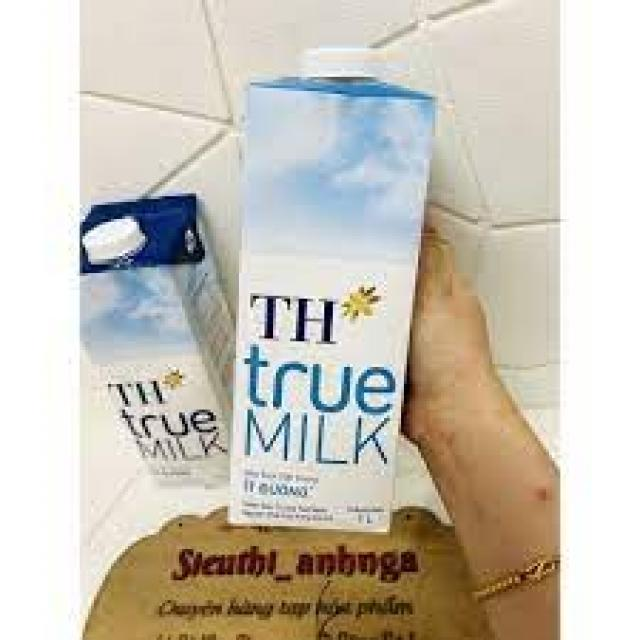non_white_jug: (203, 17, 440, 560), (64, 176, 269, 549)
